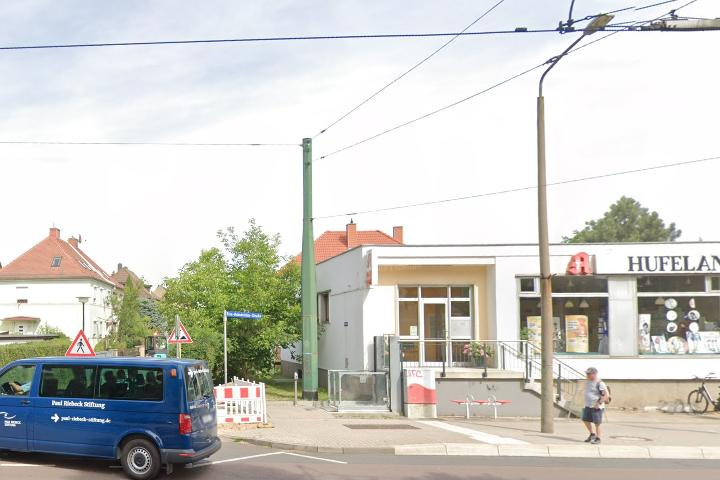traffic_sign: (64, 330, 97, 357), (167, 321, 193, 344)
vehicle: (1, 355, 225, 479)
